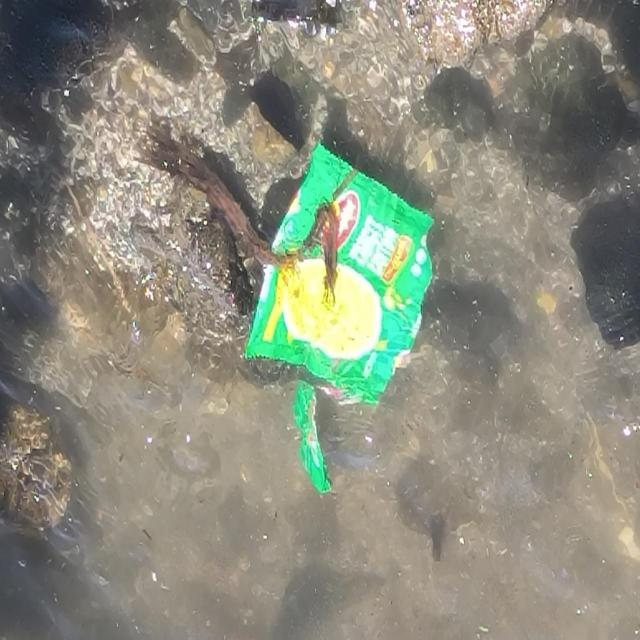plastic_waste: (245, 141, 437, 408)
